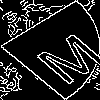M: (24, 25, 100, 86)
